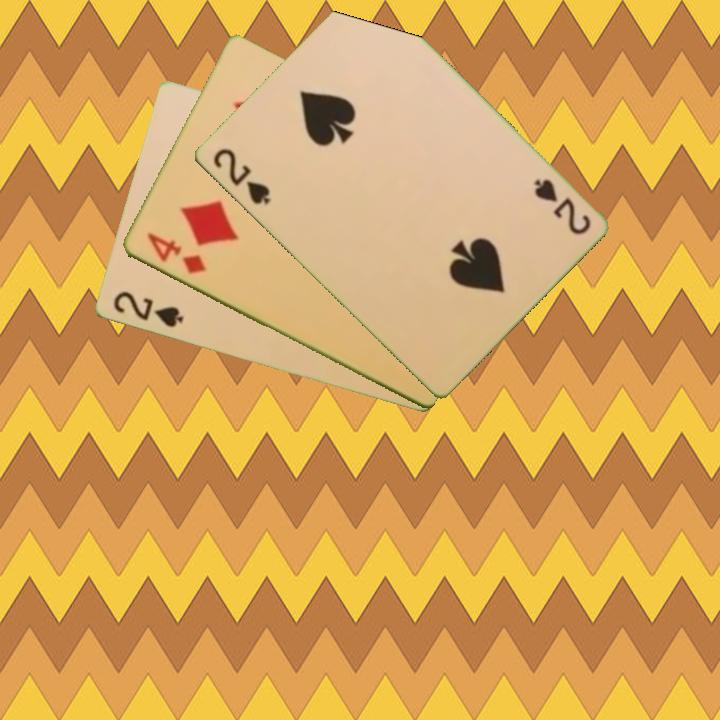2s: (208, 144, 273, 208), (529, 175, 593, 238), (109, 288, 186, 331)
4d: (142, 229, 208, 277)
